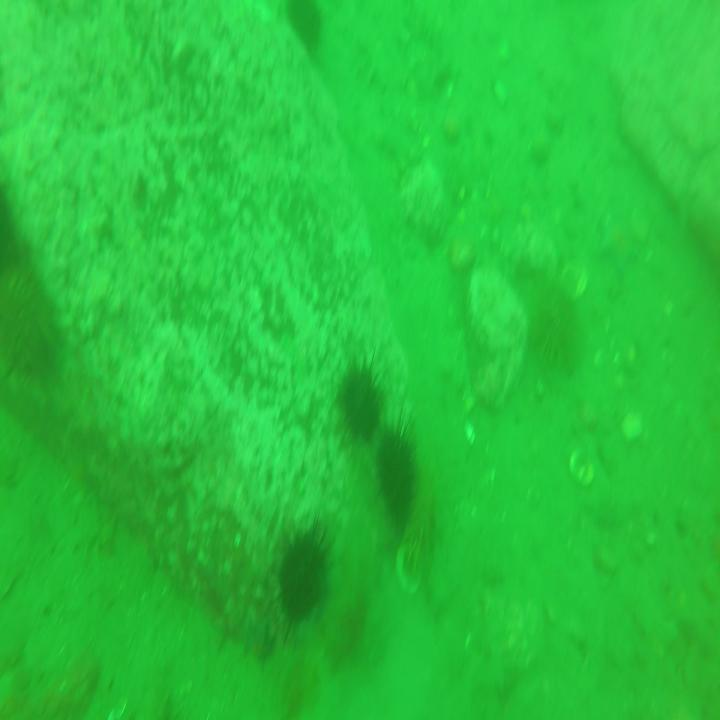echinus: (272, 511, 332, 627), (0, 252, 53, 379), (525, 270, 581, 375), (374, 422, 420, 534), (334, 354, 380, 440), (402, 484, 446, 569), (280, 0, 324, 61)
holothurian: (343, 22, 410, 90)
